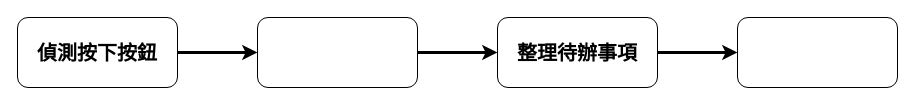
This 915x105 diagram has some shape labels left out. Each missing label, with the centre of its shape:
"取得待辦事項" belongs at [337,52].
"顯示於網頁上" belongs at [817,52].
